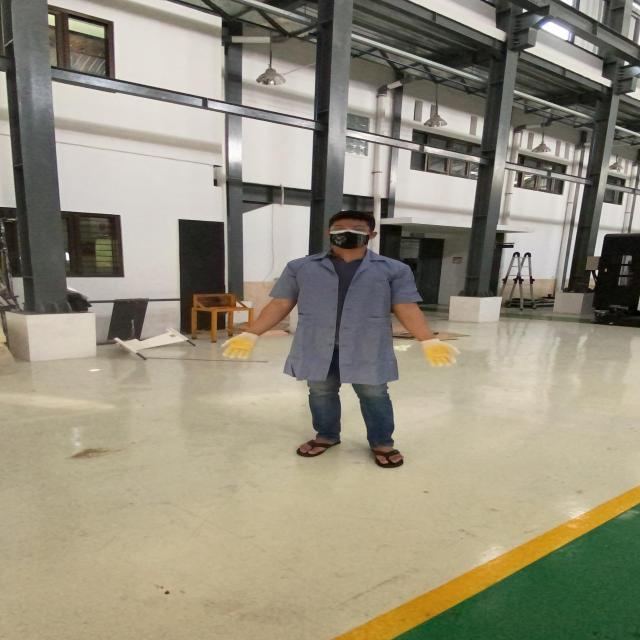glasses: (323, 222, 373, 234)
